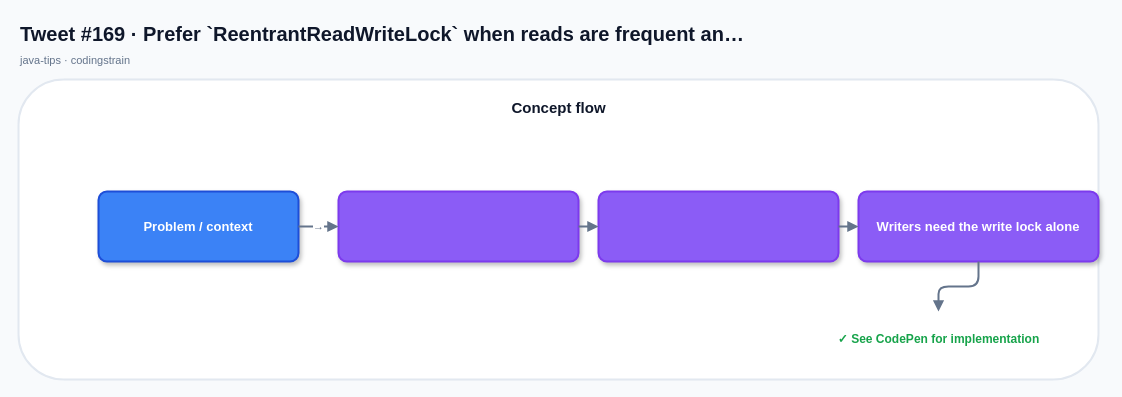
This 1122x397 diagram has some shape labels left out. Here are the shapes that lost their labels. From the top down, the centre of each, then its label:
At (x=459, y=227): "💡 Prefer `ReentrantReadWriteLock` when reads are frequent and writes a".
At (x=719, y=227): "Many readers can hold the read lock together".
